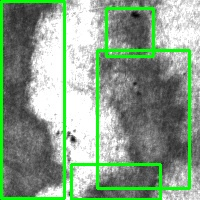patches: (97, 50, 189, 188), (1, 1, 64, 198), (71, 164, 160, 199), (106, 8, 153, 56)
